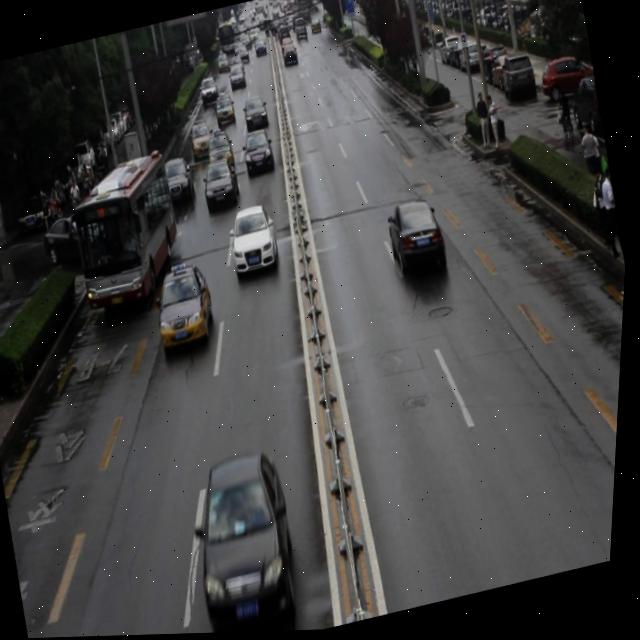car: (182, 446, 316, 635), (149, 257, 225, 356), (383, 197, 453, 284), (224, 201, 286, 281), (41, 206, 113, 271), (200, 158, 244, 212), (158, 155, 199, 207), (241, 129, 278, 176), (204, 127, 238, 172), (186, 119, 218, 161), (241, 94, 272, 132), (212, 91, 239, 128)
van: (62, 150, 194, 312)
